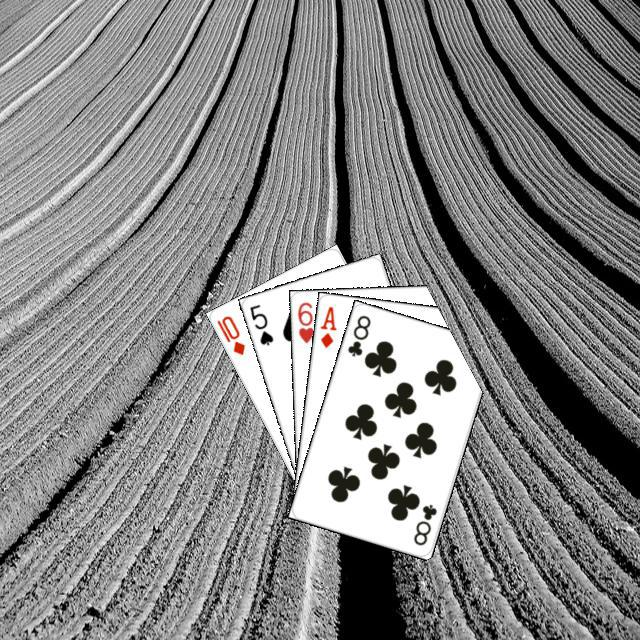10d: (212, 311, 247, 357)
5s: (245, 299, 275, 347)
6h: (293, 297, 315, 345)
8c: (408, 499, 438, 547), (343, 310, 372, 358)
Ad: (315, 301, 338, 350)
